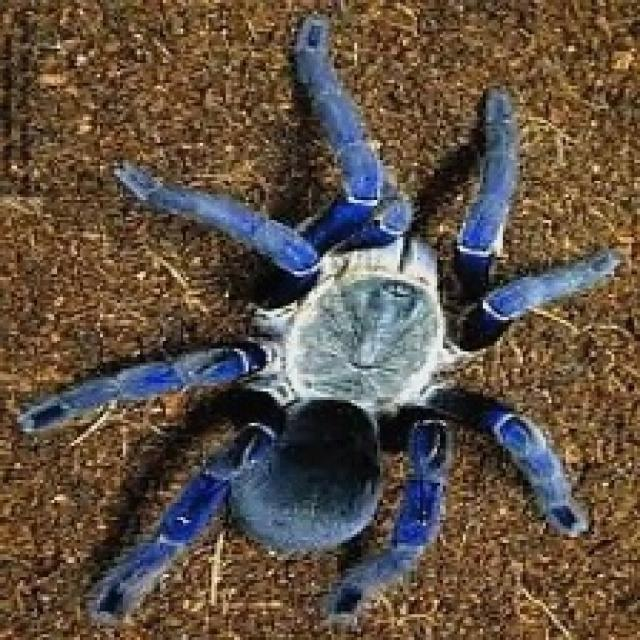Venomous spider: (31, 46, 622, 618)
